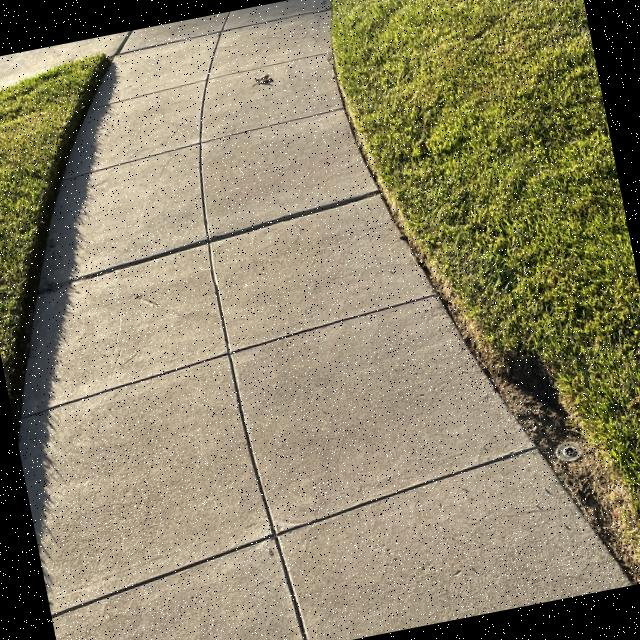walkway: (31, 292, 526, 622), (61, 209, 436, 508), (70, 461, 599, 640), (52, 108, 375, 308), (74, 73, 358, 205), (103, 9, 340, 144)
